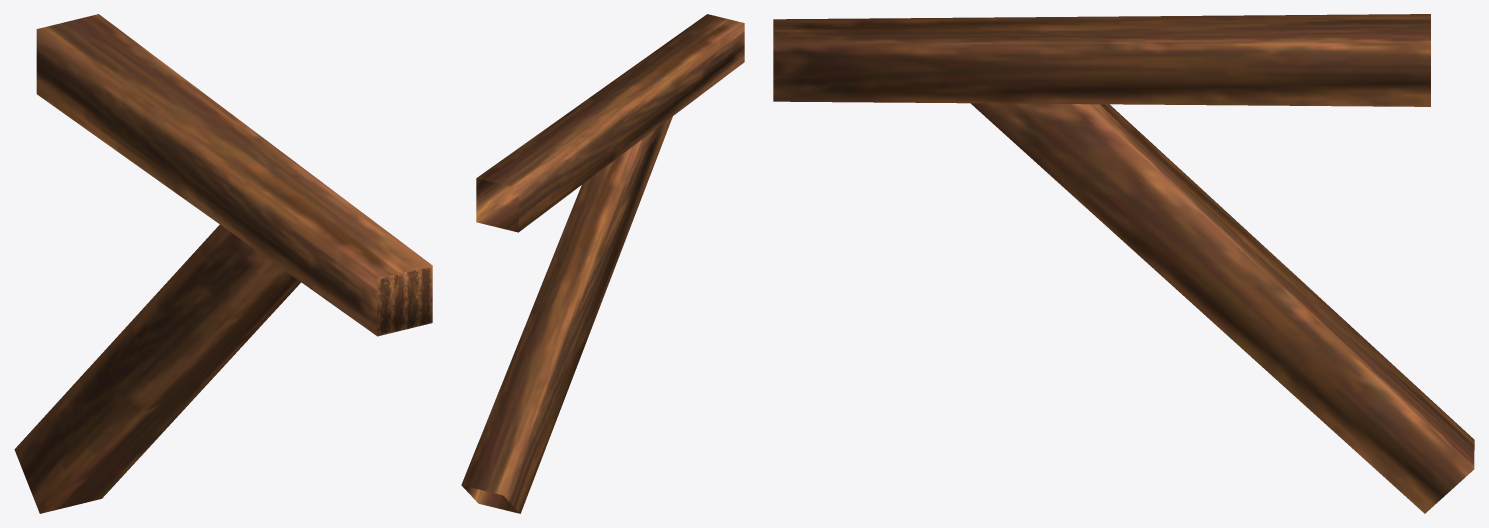
The model's file is INST_SWORDLIGHT_TRACKBRACKA.fbx.
3 views of the same model, side by side, from view 1: azimuth 30°, elevation 25°; view 2: azimuth 150°, elevation 25°; view 3: azimuth 270°, elevation 25° (orthographic). The views are drawn at different scales.
Parts seen in each view (by area): view 1: INST_SWORDLIGHT_TRACKBRACKA; view 2: INST_SWORDLIGHT_TRACKBRACKA; view 3: INST_SWORDLIGHT_TRACKBRACKA.
Part boxes in pixels (x1,y1,x2,y2): INST_SWORDLIGHT_TRACKBRACKA: (14, 14, 432, 513); INST_SWORDLIGHT_TRACKBRACKA: (461, 14, 744, 513); INST_SWORDLIGHT_TRACKBRACKA: (773, 14, 1474, 513).
Size of the model in its own units: 4579 by 33972 by 45879.
Materials: 1 (1 with a texture image).
